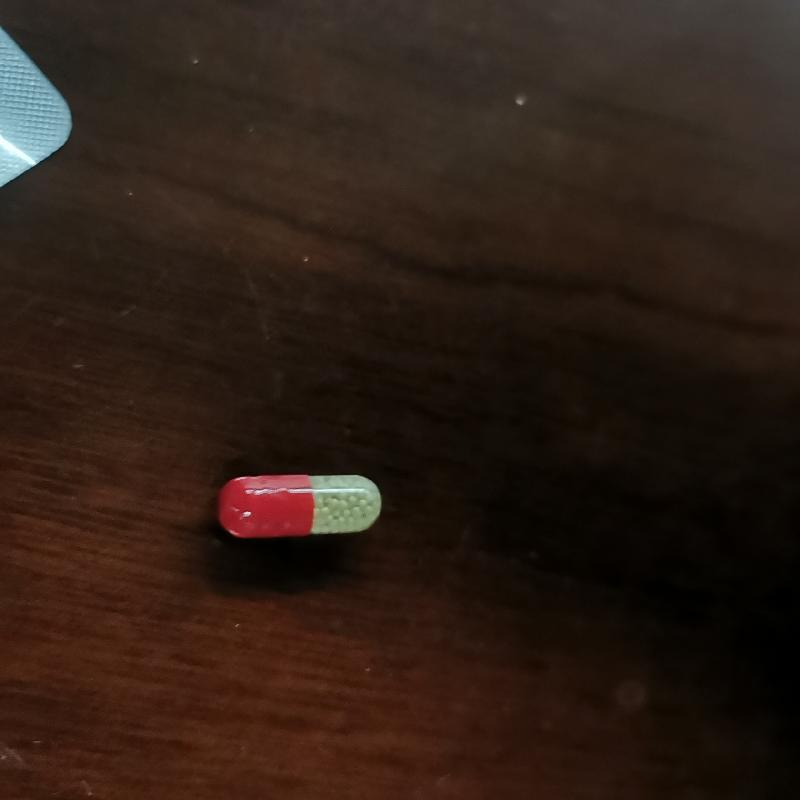pills: (211, 466, 396, 547)
